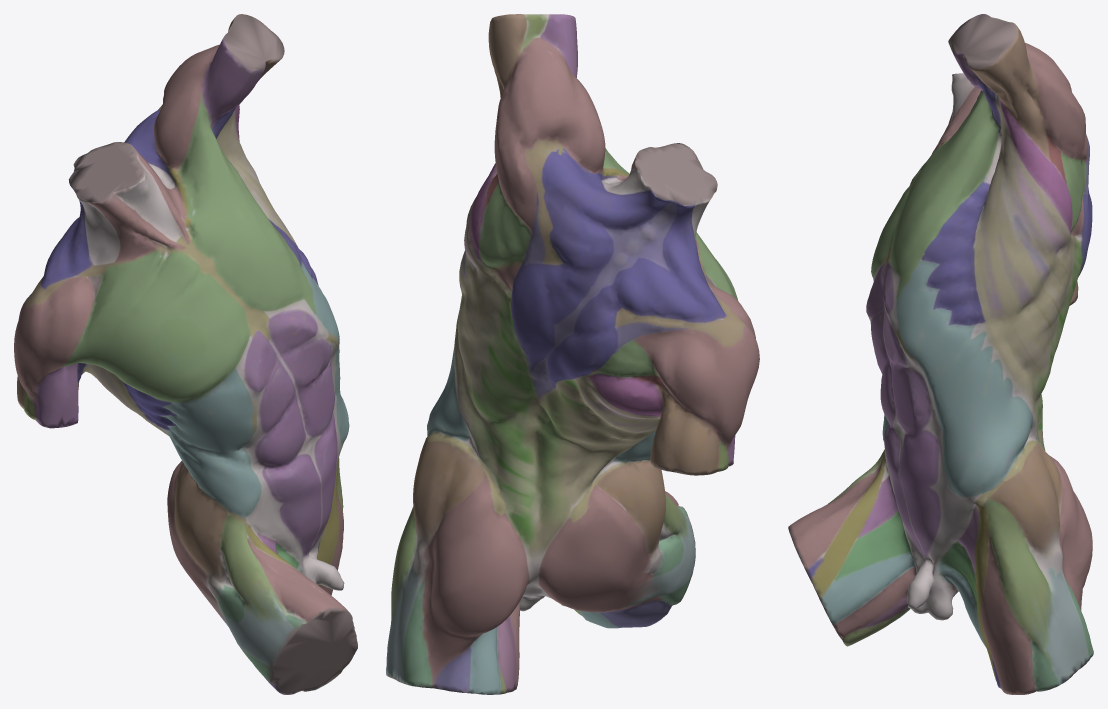
Rendered from 人物其它_20260324191910_opt.glb.
The picture shows the model from 3 angles, left to right: view 1: azimuth 30°, elevation 25°; view 2: azimuth 150°, elevation 25°; view 3: azimuth 270°, elevation 25°; orthographic projection. The views are drawn at different scales.
Parts seen in each view (by area): view 1: MuscleMan_Block_lvl_2_Low; view 2: MuscleMan_Block_lvl_2_Low; view 3: MuscleMan_Block_lvl_2_Low.
Part boxes in pixels (bbox=[...]): MuscleMan_Block_lvl_2_Low: bbox=[14, 14, 357, 694]; MuscleMan_Block_lvl_2_Low: bbox=[386, 14, 759, 694]; MuscleMan_Block_lvl_2_Low: bbox=[788, 14, 1093, 694].
Bounding box in the file's own units: 0.2165 × 0.3999 × 0.1757.
Materials: 1 (1 with a texture image).
